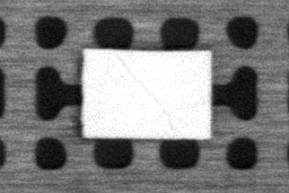DIE_CRACK: (117, 52, 170, 131)
